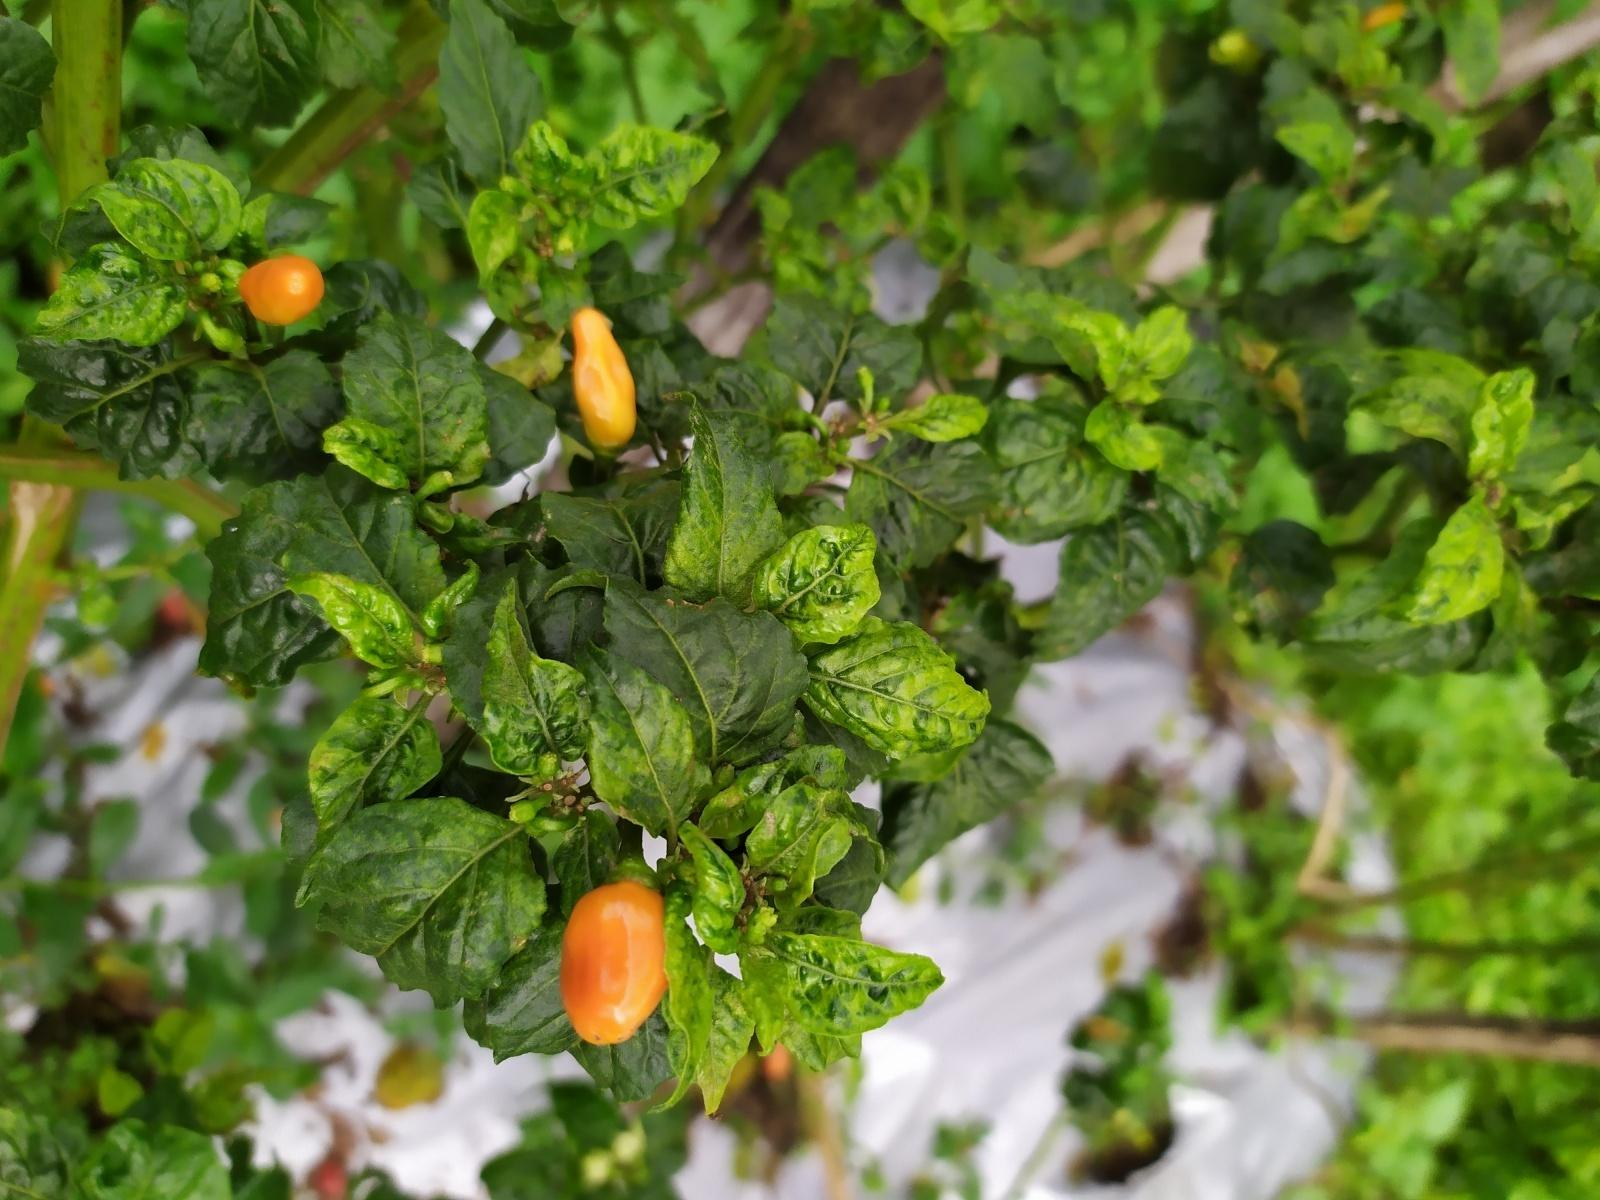cabai_normal: (558, 884, 669, 1045), (569, 308, 637, 450), (238, 255, 325, 324)
